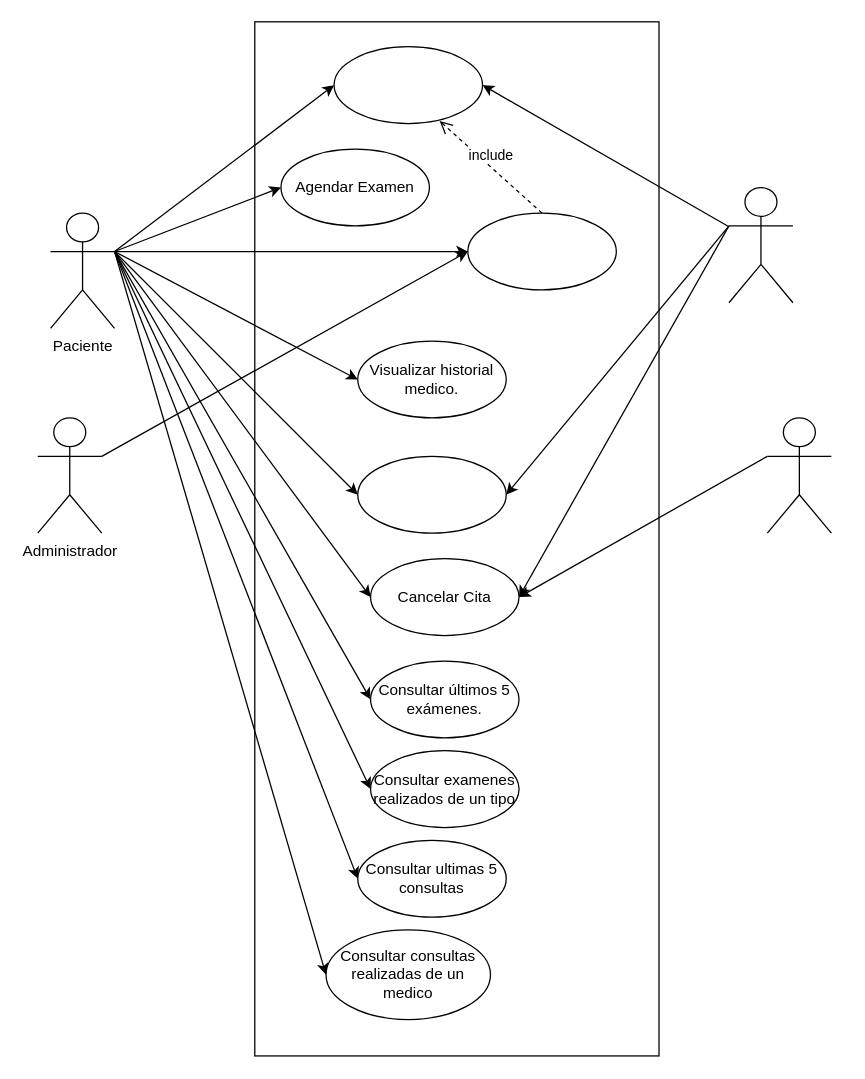
Some shapes in this 865 by 1079 pixel diagram are drawn without their labels. Here are the shapes that lost their labels. From the top down, the box of each, then its label:
(333, 45, 483, 124): Agendar Cita
(467, 212, 616, 290): Buscar Medico
(728, 186, 793, 303): Medico
(356, 455, 506, 533): Consultar citas.
(766, 417, 831, 533): Laboratorista
